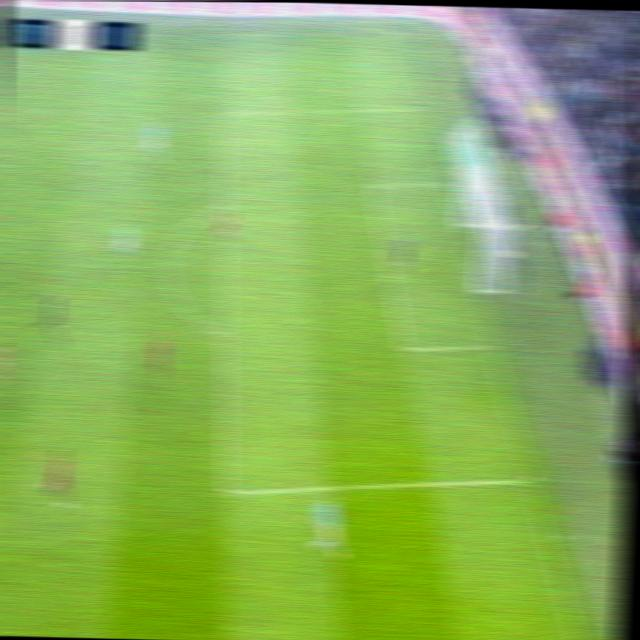bigarea_bottom_inner: (214, 480, 237, 504)
bigarea_bottom_outter: (519, 469, 540, 494)
bigarea_top_inner: (214, 106, 231, 121)
bigarea_top_outter: (437, 175, 456, 191), (417, 100, 434, 114)
bottom_arc_area_intersection: (216, 325, 234, 344)
corner: (395, 23, 415, 39)
smallarea_bottom_inner: (393, 339, 414, 359)
smallarea_bottom_outter: (480, 335, 502, 358)
smallarea_top_inner: (364, 176, 384, 195)
top_arc_area_intersection: (214, 198, 231, 210)
